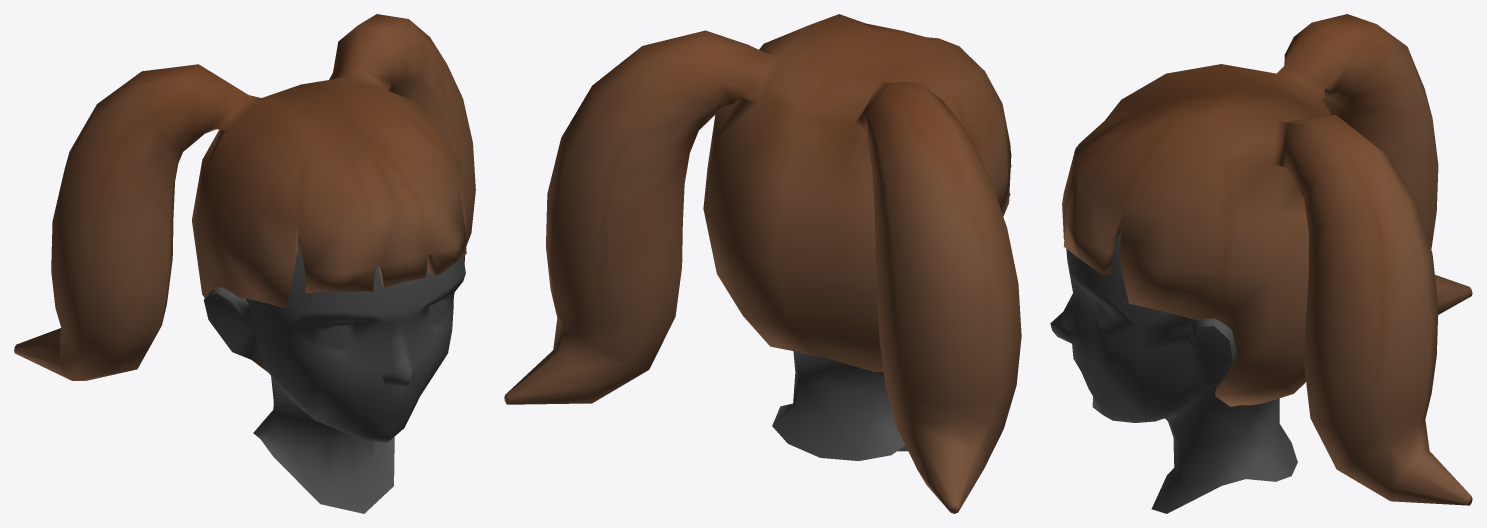
The model's file is doki-pigtails.glb.
The picture shows the model from 3 angles, left to right: view 1: azimuth 30°, elevation 25°; view 2: azimuth 150°, elevation 25°; view 3: azimuth 270°, elevation 25°; orthographic projection. The views are drawn at different scales.
Parts seen in each view (by area): view 1: Pigtails, Head_BaseMesh; view 2: Pigtails, Head_BaseMesh; view 3: Pigtails, Head_BaseMesh.
Boxes of the visible parts, x1,y1,x2,y2 form: Pigtails: (14, 14, 475, 380); Head_BaseMesh: (204, 242, 465, 513); Pigtails: (504, 14, 1021, 513); Head_BaseMesh: (772, 193, 1010, 460); Pigtails: (1062, 14, 1472, 505); Head_BaseMesh: (1050, 232, 1297, 513).
Bounding box in the file's own units: 1.01 × 0.9585 × 0.8406.
Materials: 2 (2 with a texture image).
